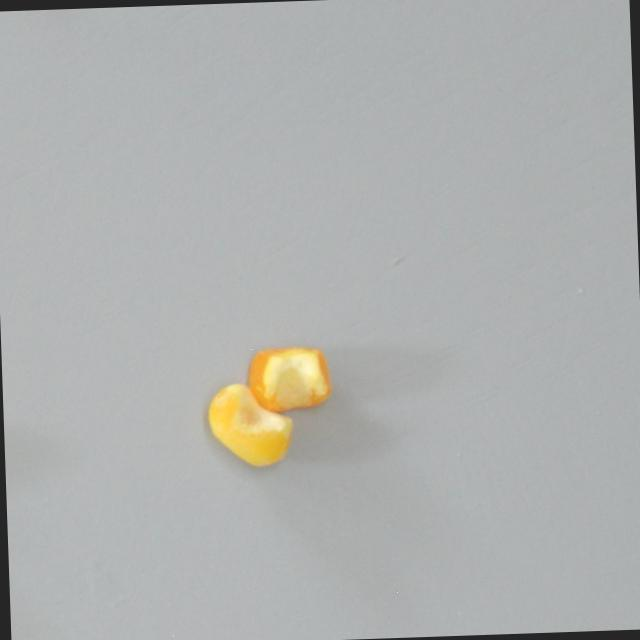no_canjicado: (248, 345, 331, 412)
pelicula: (209, 381, 296, 468)
